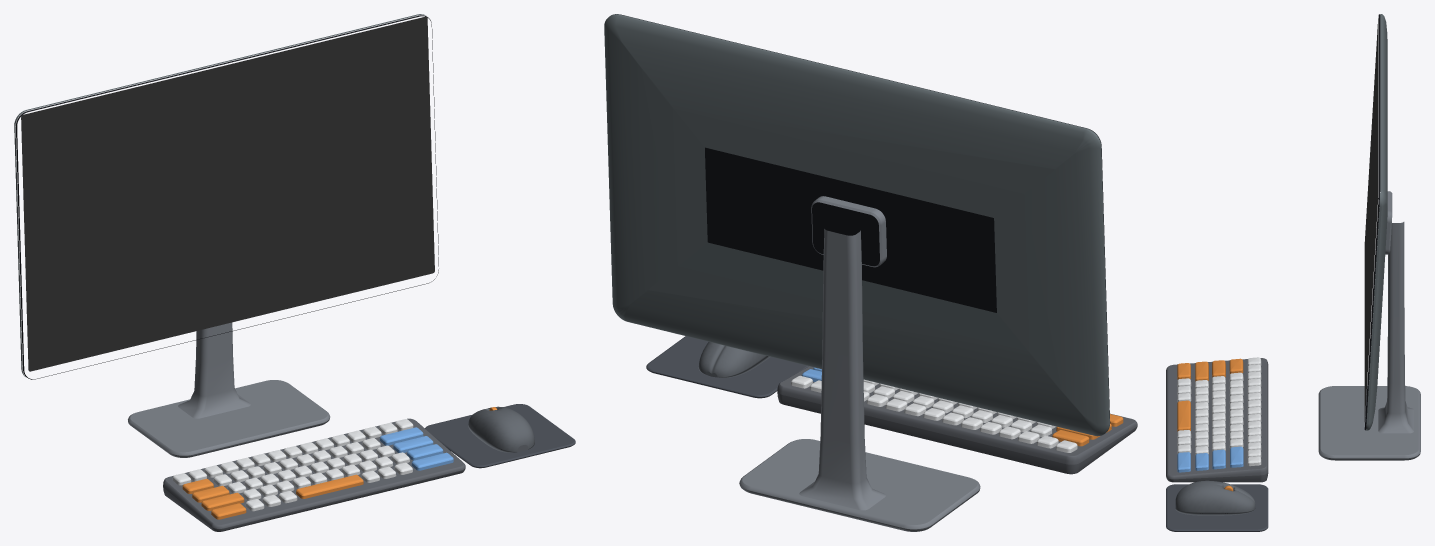
File: computer.glb
3 views of the same model, side by side, from view 1: azimuth 30°, elevation 25°; view 2: azimuth 150°, elevation 25°; view 3: azimuth 270°, elevation 25° (orthographic). The views are drawn at different scales.
Visible parts, largest first — view 1: Monitor_Screen, Keys, Monitor_Stand, Keyboard_Base, Mousepad, Mouse.001, Monitor_Glass, Monitor_Shell; view 2: Monitor_Shell, Monitor_Glass, Monitor_Stand, Keyboard_Base, Keys, Mousepad, Mouse.001, Monitor_Mount; view 3: Monitor_Stand, Keys, Keyboard_Base, Monitor_Shell, Monitor_Screen, Mousepad, Mouse.001, Monitor_Glass, Monitor_Mount.
Part boxes in pixels (x1,y1,x2,y2): Monitor_Screen: (21,16,434,371); Keys: (172,419,453,519); Monitor_Stand: (128,322,330,457); Keyboard_Base: (163,418,465,531); Mousepad: (425,404,575,468); Mouse.001: (468,406,534,452); Monitor_Glass: (16,15,438,379); Monitor_Shell: (14,14,425,376); Monitor_Shell: (604,14,1109,436); Monitor_Glass: (615,14,1110,422); Monitor_Stand: (739,229,980,531); Keyboard_Base: (777,366,1137,474); Keys: (791,367,1123,452); Mousepad: (646,336,808,398); Mouse.001: (698,342,770,377); Monitor_Mount: (811,196,886,267); Monitor_Stand: (1318,222,1420,460); Keys: (1177,357,1261,472); Keyboard_Base: (1166,358,1268,482); Monitor_Shell: (1366,14,1387,430); Monitor_Screen: (1364,18,1378,421); Mousepad: (1166,484,1268,531); Mouse.001: (1175,480,1255,515); Monitor_Glass: (1364,14,1380,430); Monitor_Mount: (1385,191,1392,254).
Size of the model in its own units: 2.58 by 1.95 by 1.39.
